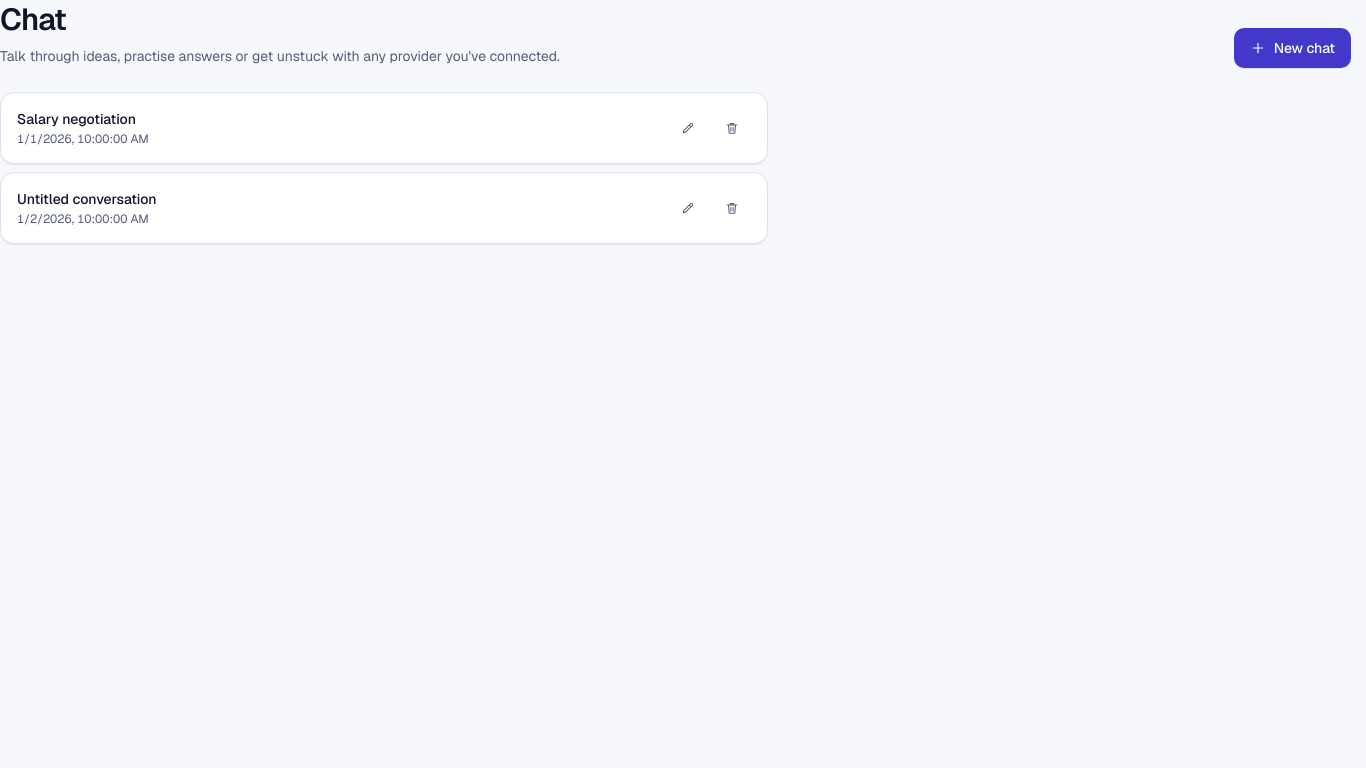
ChatListView › deletes a conversation after confirming and removes it from the list
Click the button named "Delete conversation Salary negotiation" at (732, 128), box [713,112,751,144]
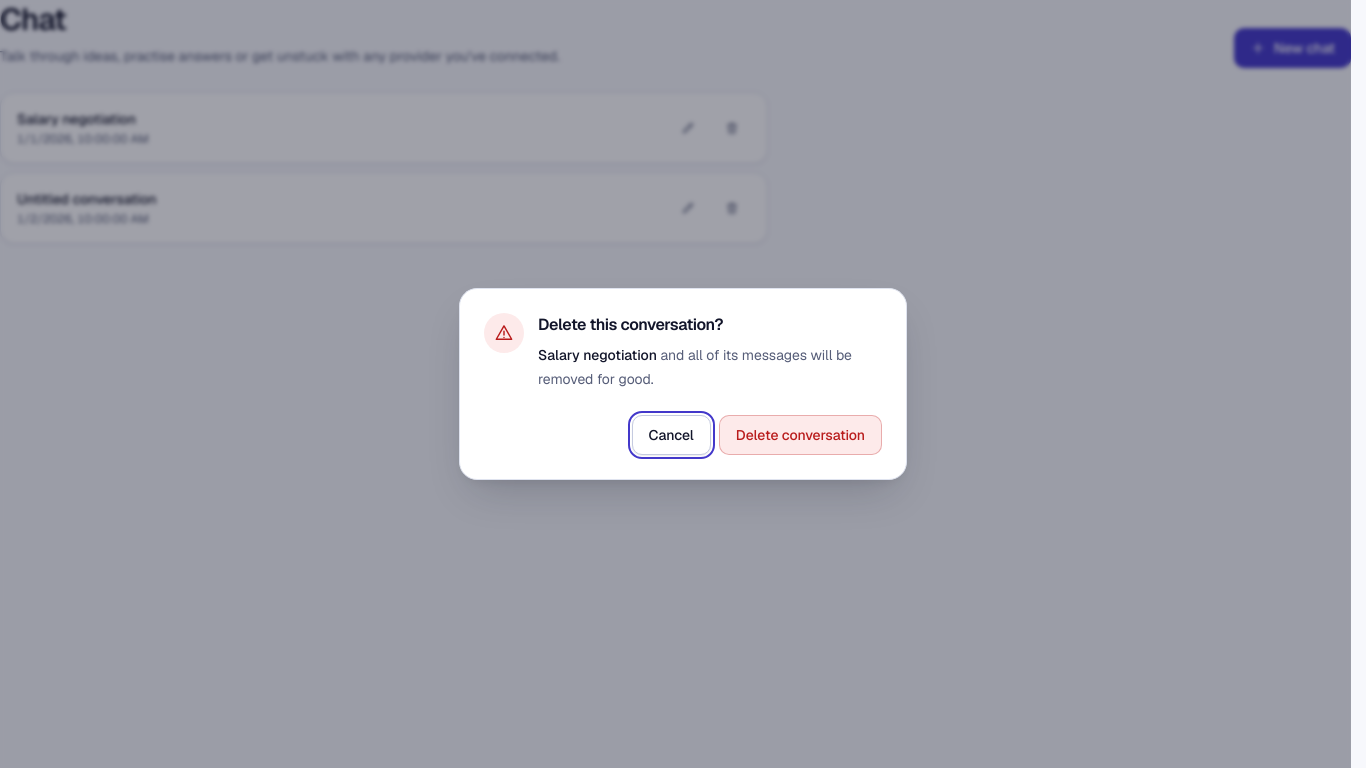
Click the button "Delete conversation" at (800, 435), box [719,415,882,455]
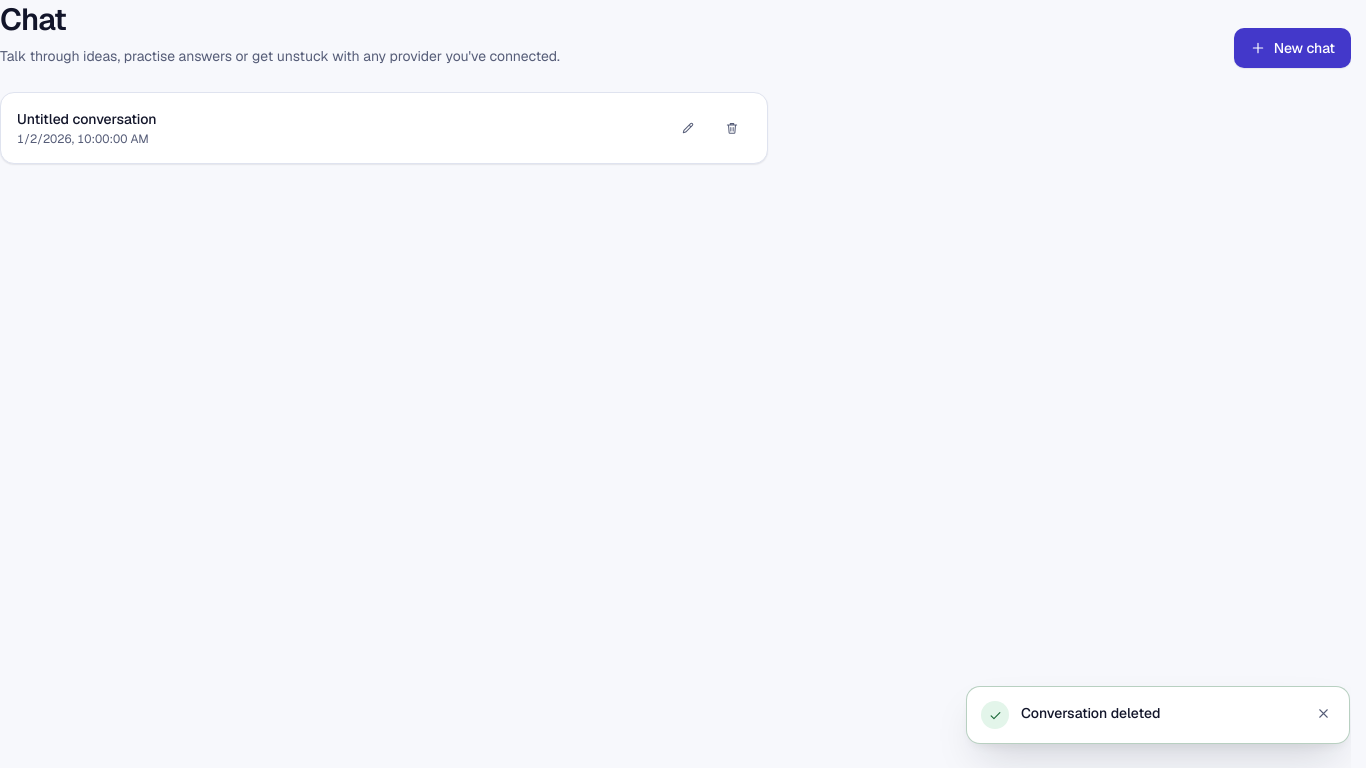
Expected: the link "Untitled conversation" is shown, [17,110,157,128]
Now the dialog is gone
Now the link "Salary negotiation" is gone
